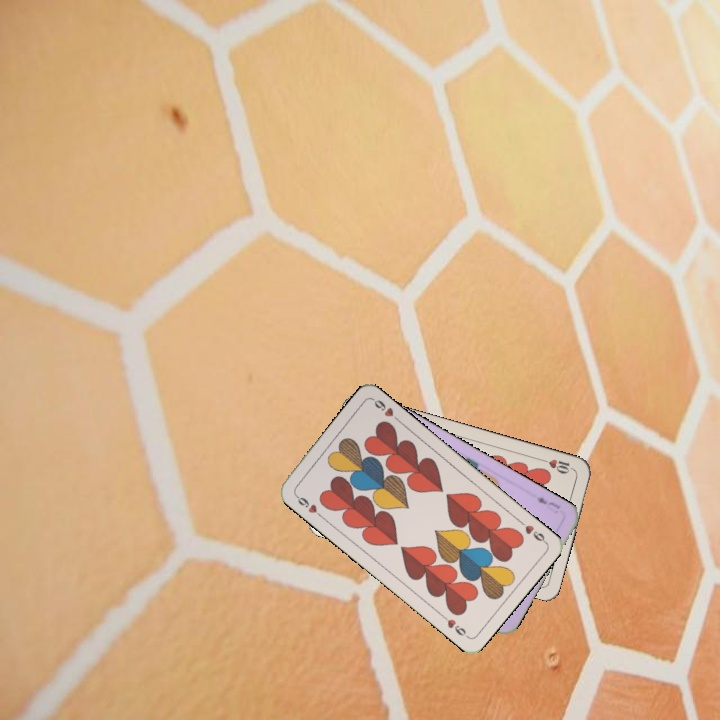EU: (532, 492, 563, 516)
H10: (537, 455, 577, 476)
H9: (514, 516, 548, 546), (291, 490, 325, 520)
